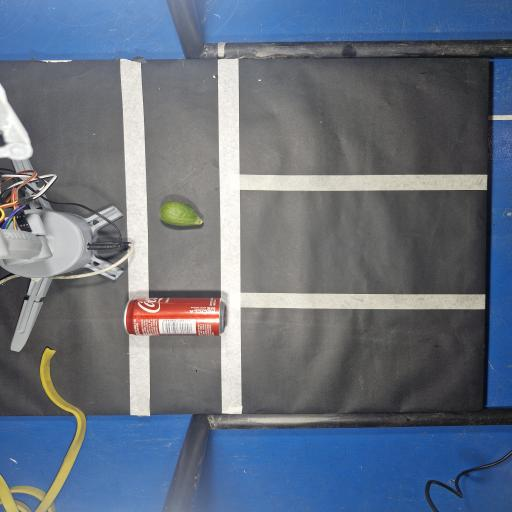lata: (123, 297, 226, 336)
